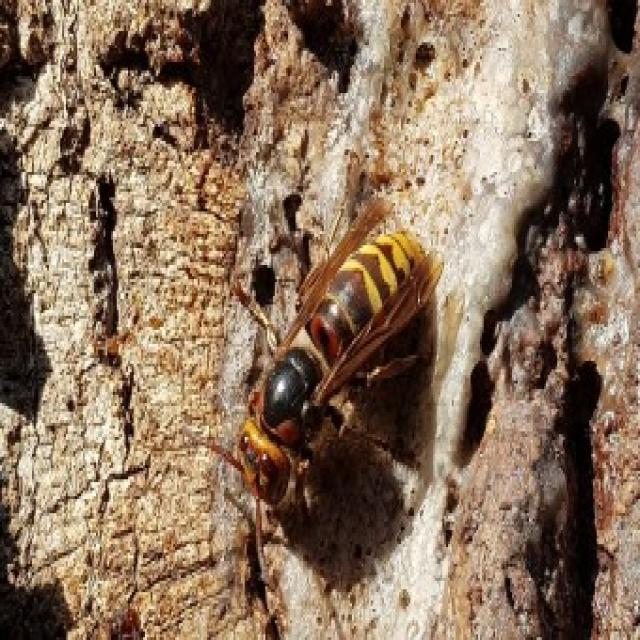Wasp: (236, 202, 448, 524)
